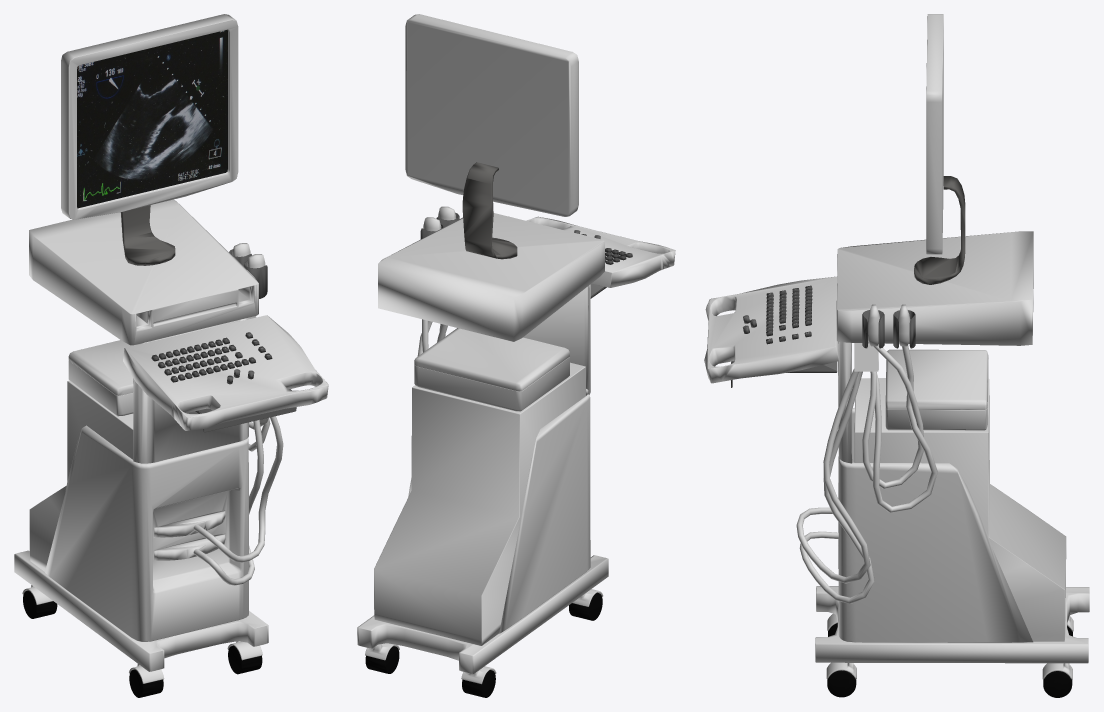
Rendered from BUC07.fbx.
The picture shows the model from 3 angles, left to right: view 1: azimuth 30°, elevation 25°; view 2: azimuth 150°, elevation 25°; view 3: azimuth 270°, elevation 25°; orthographic projection. The views are drawn at different scales.
Visible parts, largest first — view 1: BUC07; view 2: BUC07; view 3: BUC07.
Part boxes in pixels (x1,y1,x2,y2): BUC07: [14, 14, 328, 697]; BUC07: [357, 14, 675, 697]; BUC07: [704, 14, 1089, 697].
Size of the model in its own units: 49.56 by 165 by 93.84.
